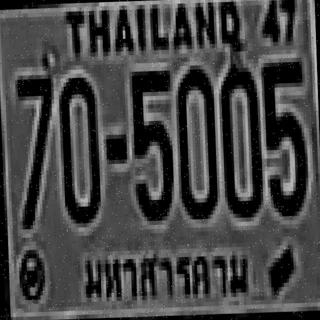N00: (218, 63, 261, 214), (174, 62, 215, 218), (58, 73, 98, 220)
N05: (261, 58, 307, 212), (129, 66, 172, 217)
N07: (15, 74, 55, 225)
P25: (76, 241, 254, 310)
